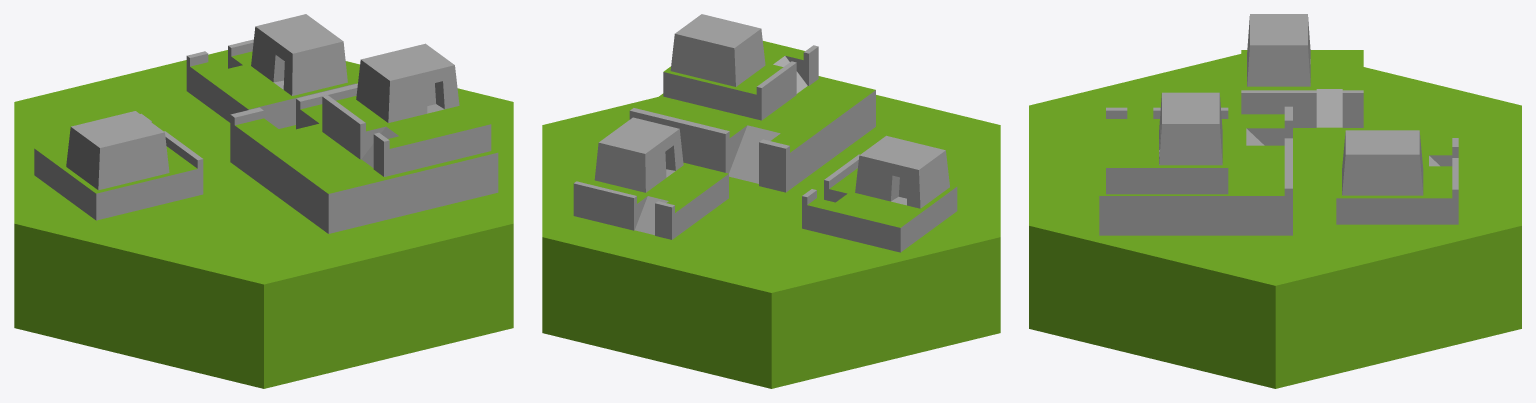
Rendered from Asentamiento.fbx.
The picture shows the model from 3 angles, left to right: view 1: azimuth 30°, elevation 25°; view 2: azimuth 150°, elevation 25°; view 3: azimuth 270°, elevation 25°; orthographic projection. The views are drawn at different scales.
Parts seen in each view (by area): view 1: Asentamiento; view 2: Asentamiento; view 3: Asentamiento.
Part boxes in pixels (x1=…): Asentamiento: x1=14, y1=14, x2=513, y2=388; Asentamiento: x1=542, y1=14, x2=1000, y2=388; Asentamiento: x1=1029, y1=14, x2=1521, y2=388.
Bounding box in the file's own units: 200 × 81.06 × 173.
Materials: 1 (1 with a texture image).
